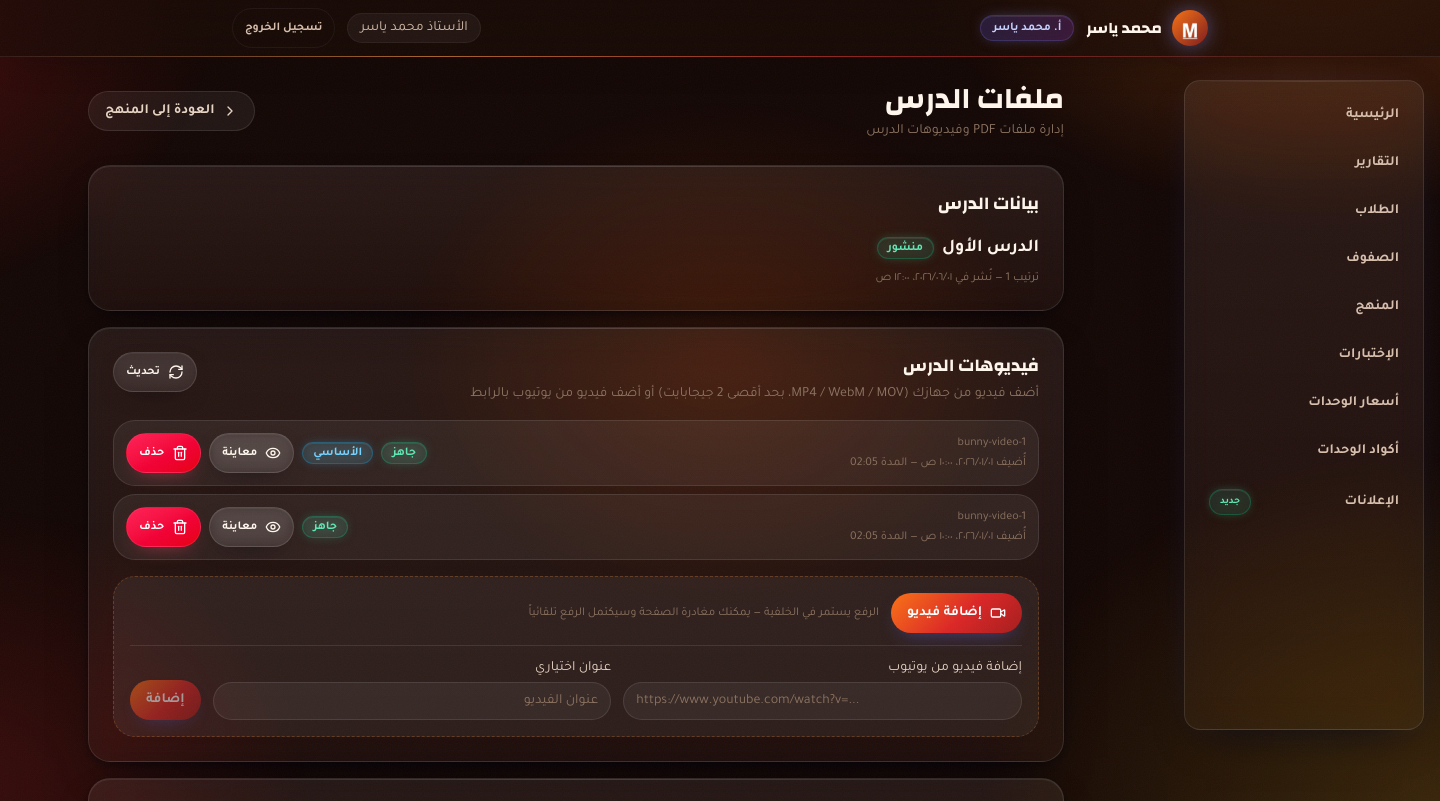
Test: LessonAssetsPage — video section › deletes a video after confirmation: RPC, toast and list refresh
Check: the list item with test id "video-row-video-2" is shown, box [113, 494, 1039, 560]
Click the 2nd button "حذف" at (164, 527), box [126, 507, 201, 547]
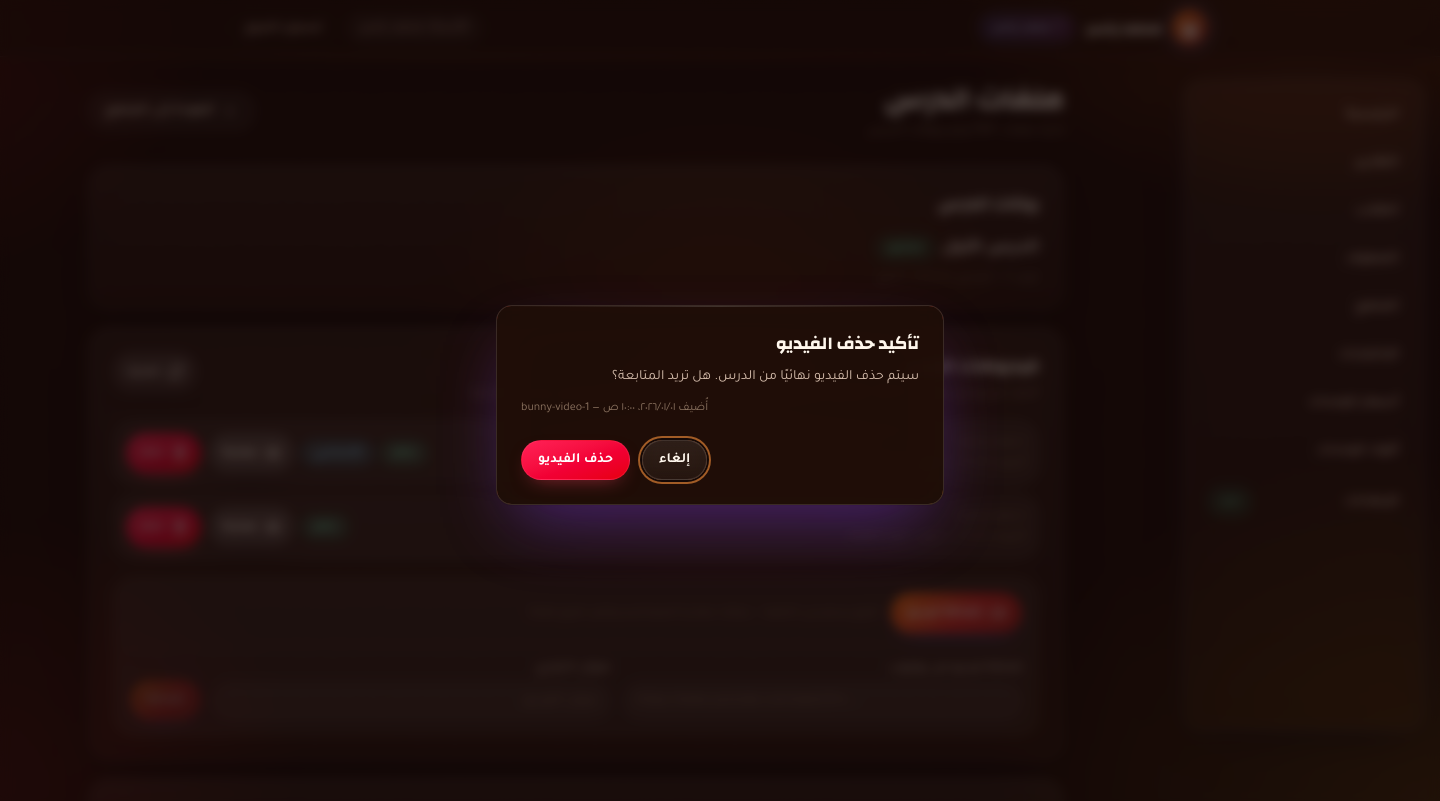
Check: the dialog "تأكيد حذف الفيديو" is shown, box [496, 305, 944, 505]
Click the button "حذف الفيديو" at (576, 460), box [521, 440, 630, 480]
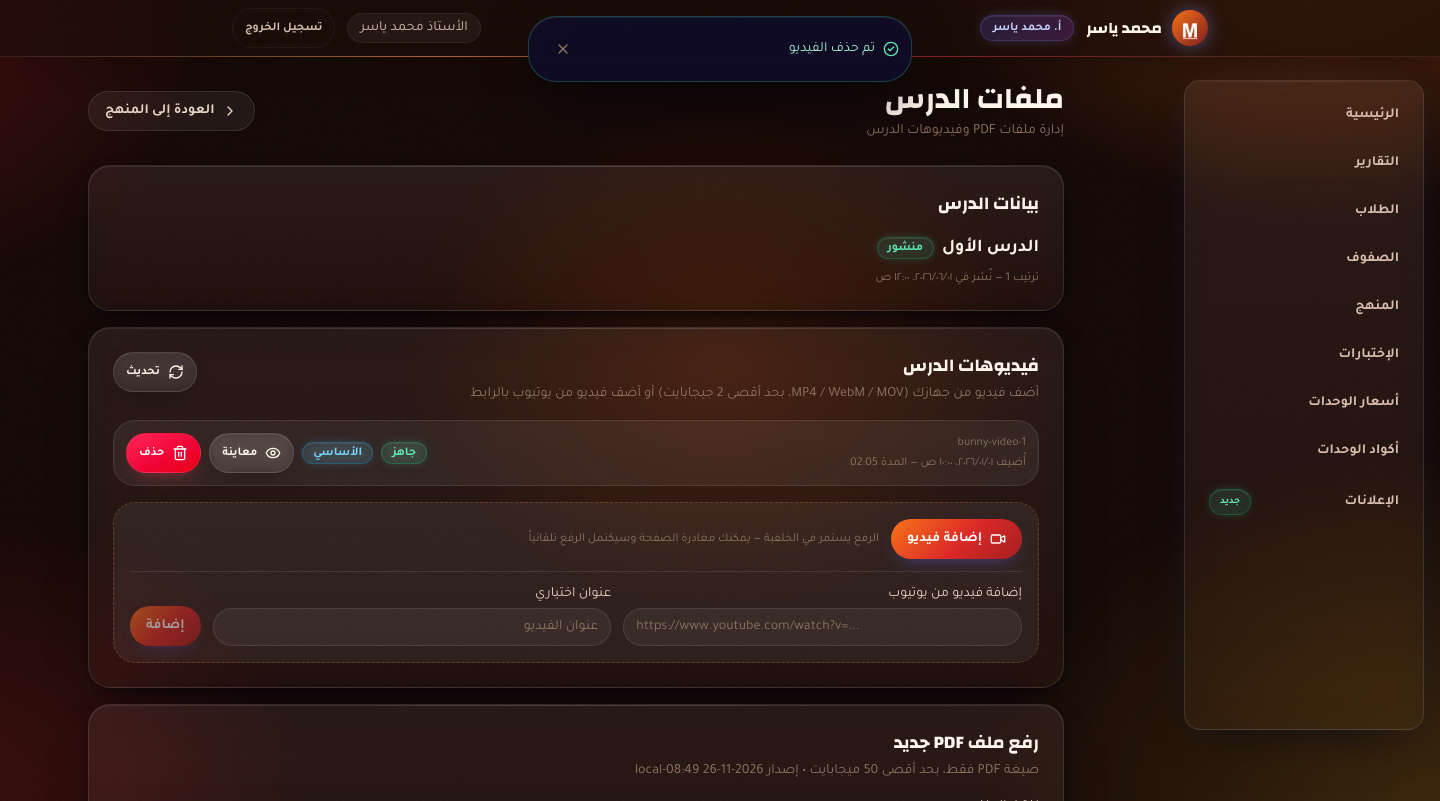
Check: the list item with test id "video-row-video-1" is shown, box [113, 420, 1039, 486]
Check: the text "تم حذف الفيديو" is shown, box [789, 42, 875, 56]
Check: the list item with test id "video-row-video-2" is gone
